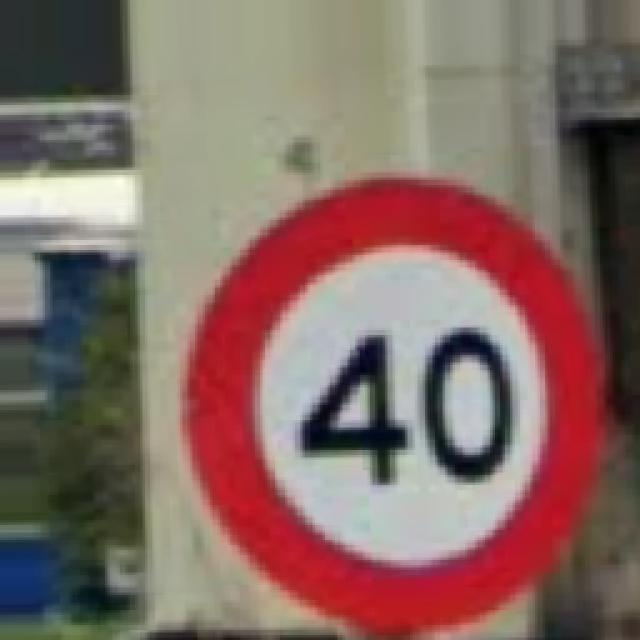Speed Limit -40-: (182, 178, 600, 628)
